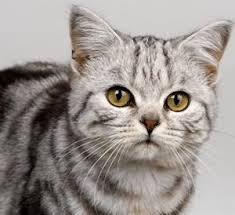cat: (58, 4, 233, 167)
